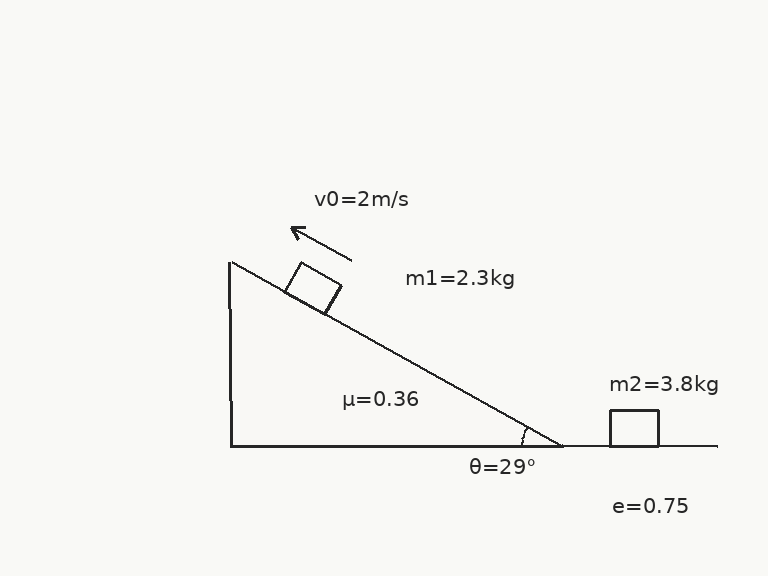block: (282, 260, 343, 316), (608, 408, 660, 448)
ramp: (229, 261, 564, 448)
